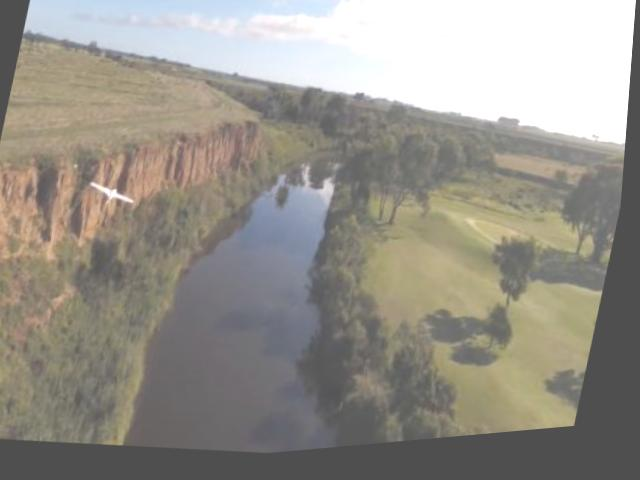uav: (89, 178, 147, 212)
